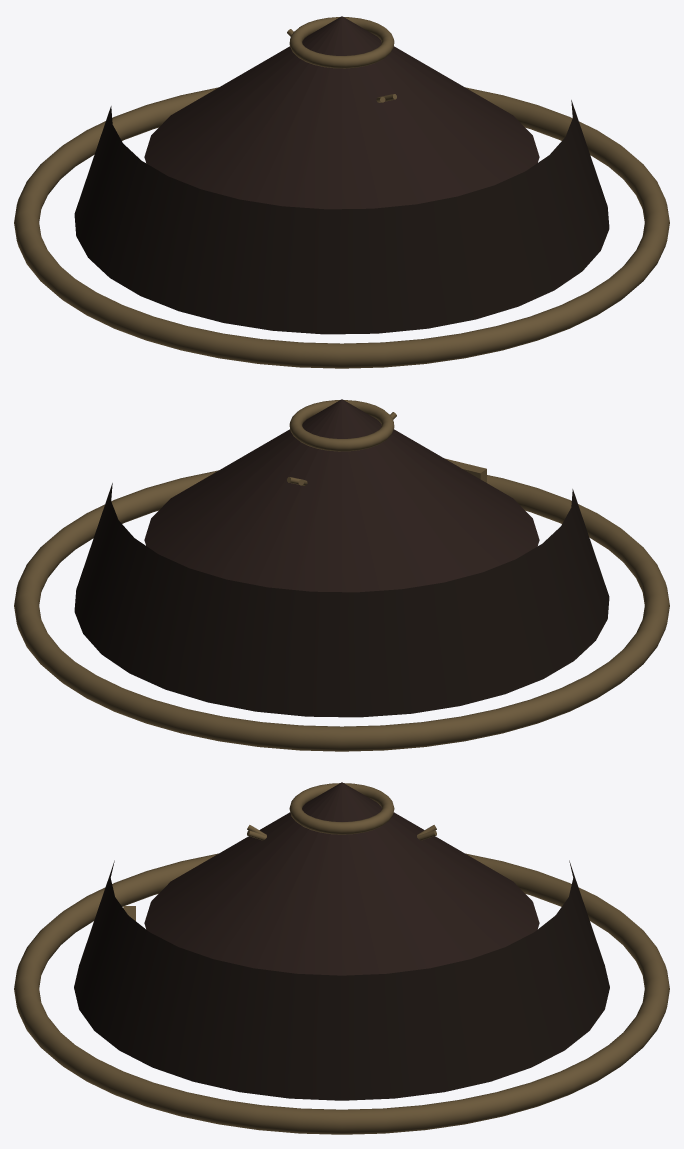
File: sacred-structure.glb
3 renders of one model, top to bottom at view 1: azimuth 30°, elevation 25°; view 2: azimuth 150°, elevation 25°; view 3: azimuth 270°, elevation 25°, orthographic.
Size of the model in its own units: 6.24 by 2.29 by 6.24.
